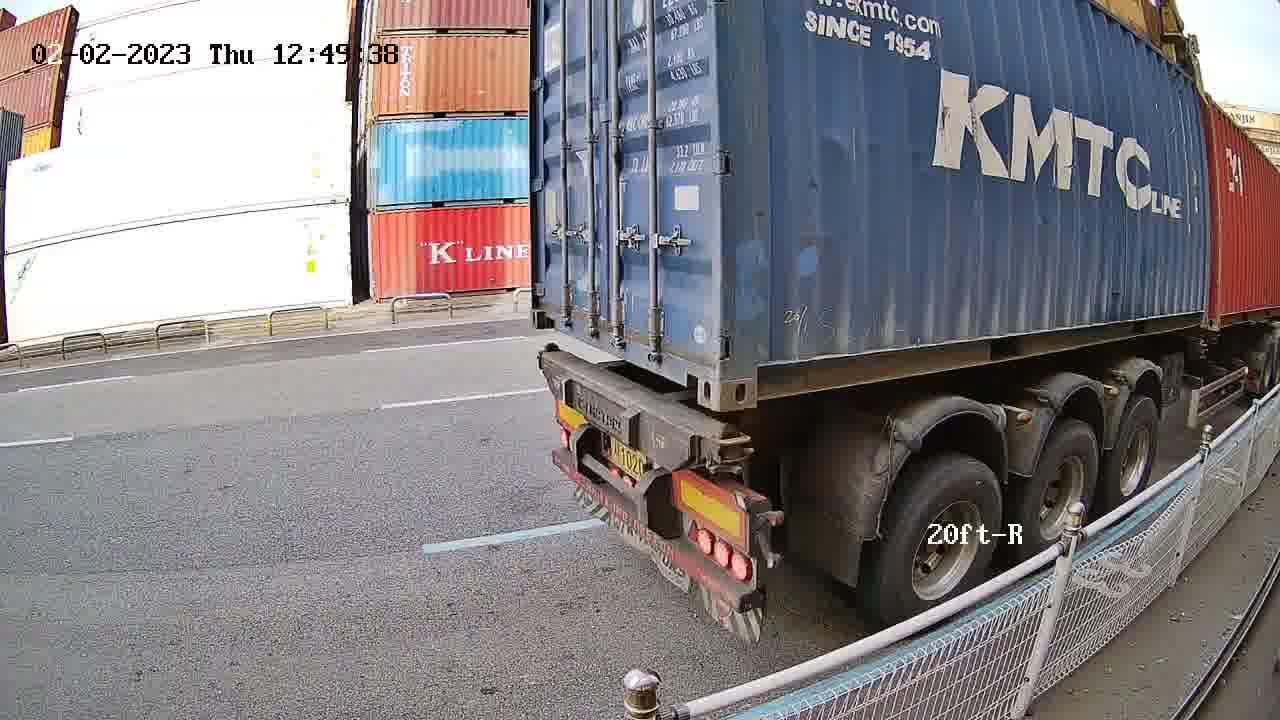Chassis: (537, 349, 750, 471)
Cone: (697, 423, 757, 473), (540, 340, 563, 358)
Hole_L: (721, 333, 786, 410), (531, 284, 567, 336)
Hole_R: (671, 325, 719, 410)
Tire: (882, 461, 1002, 636), (1025, 426, 1099, 565), (1106, 398, 1160, 519)
